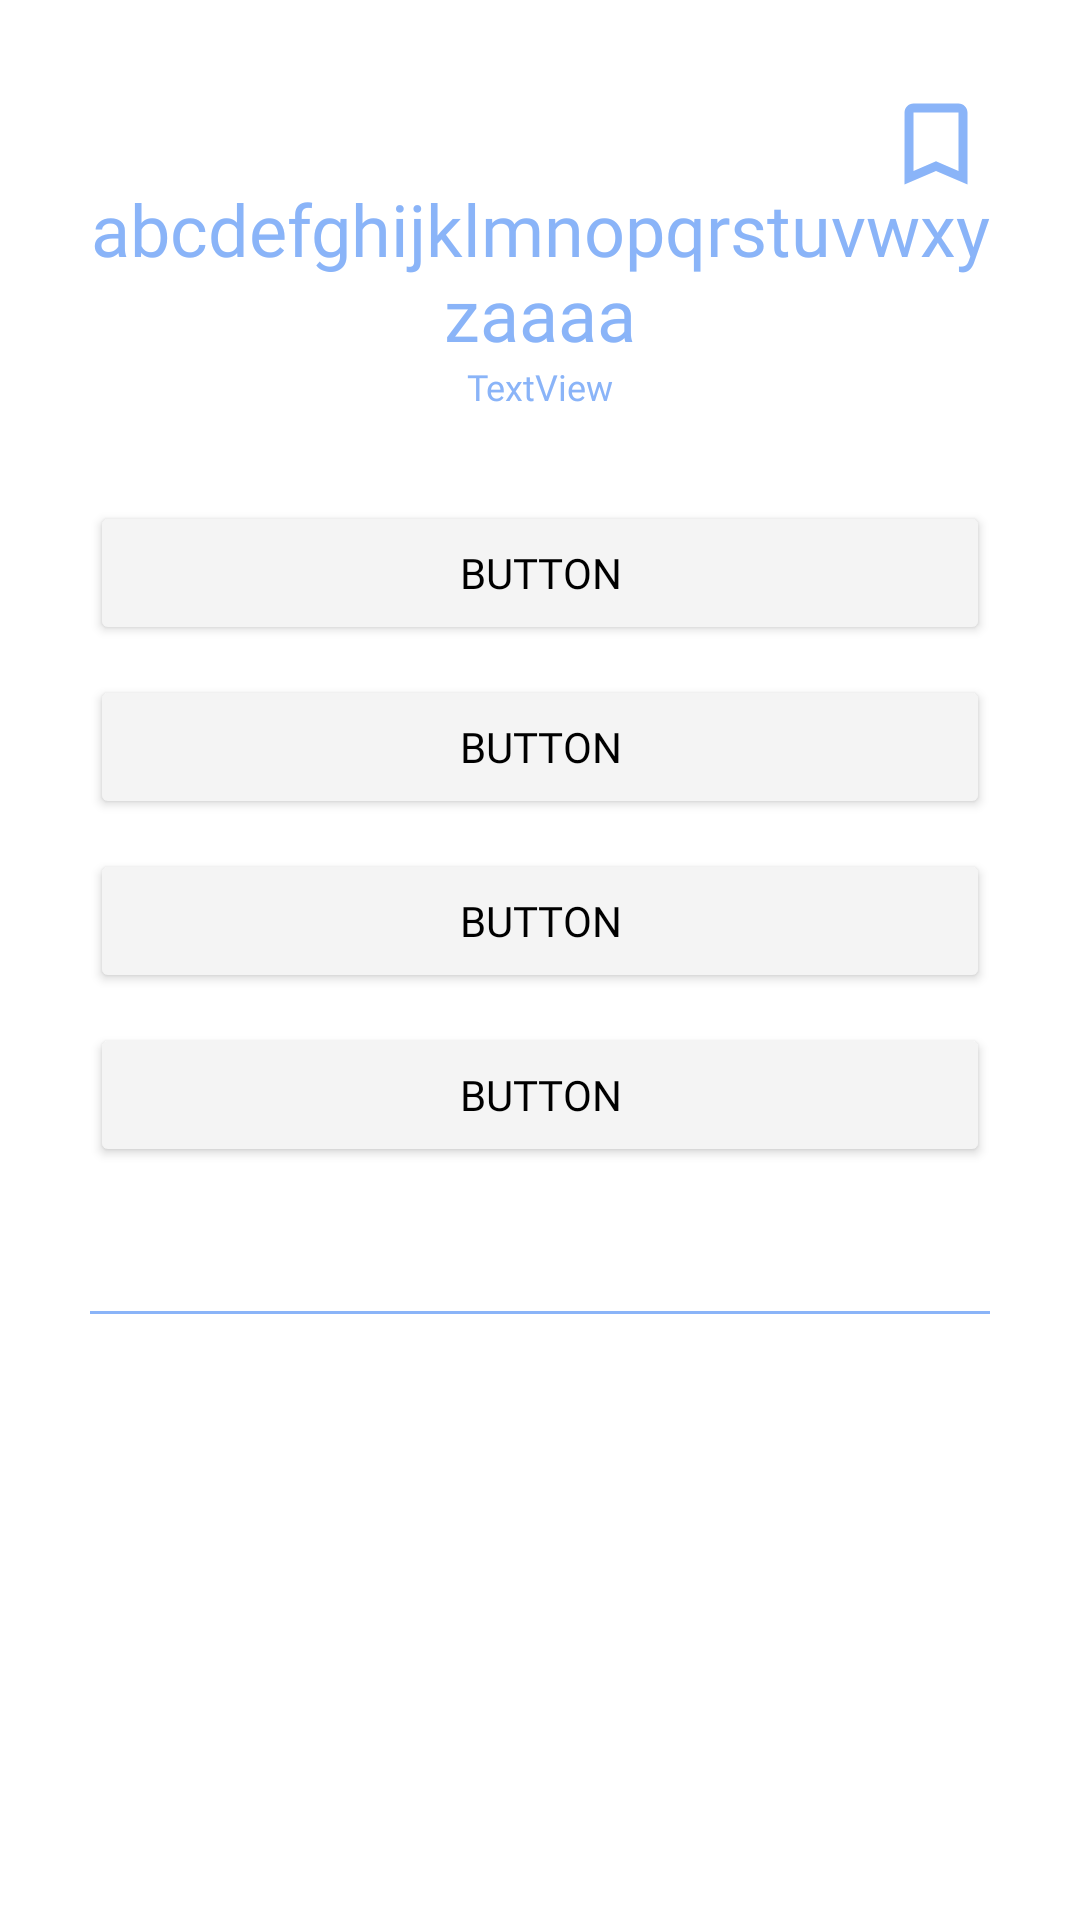

Named icons in this screenshot (1080px×1920px) and their bounding boxes, {"x1": x1, "y1": y1, "x2": x2, "y2": y2}:
bookmark border: {"x1": 904, "y1": 103, "x2": 968, "y2": 184}
